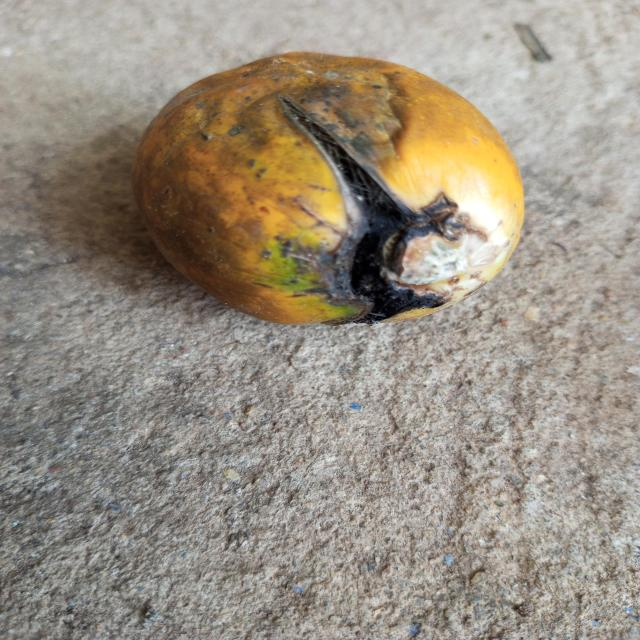damaged: (131, 52, 526, 327)
